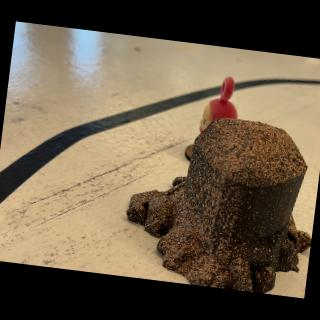teletubby: (199, 77, 237, 133)
